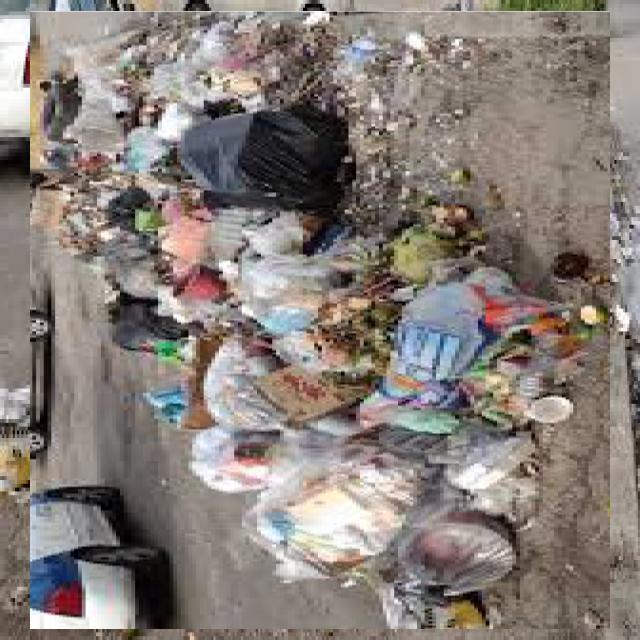Trashbag: (165, 104, 354, 209)
